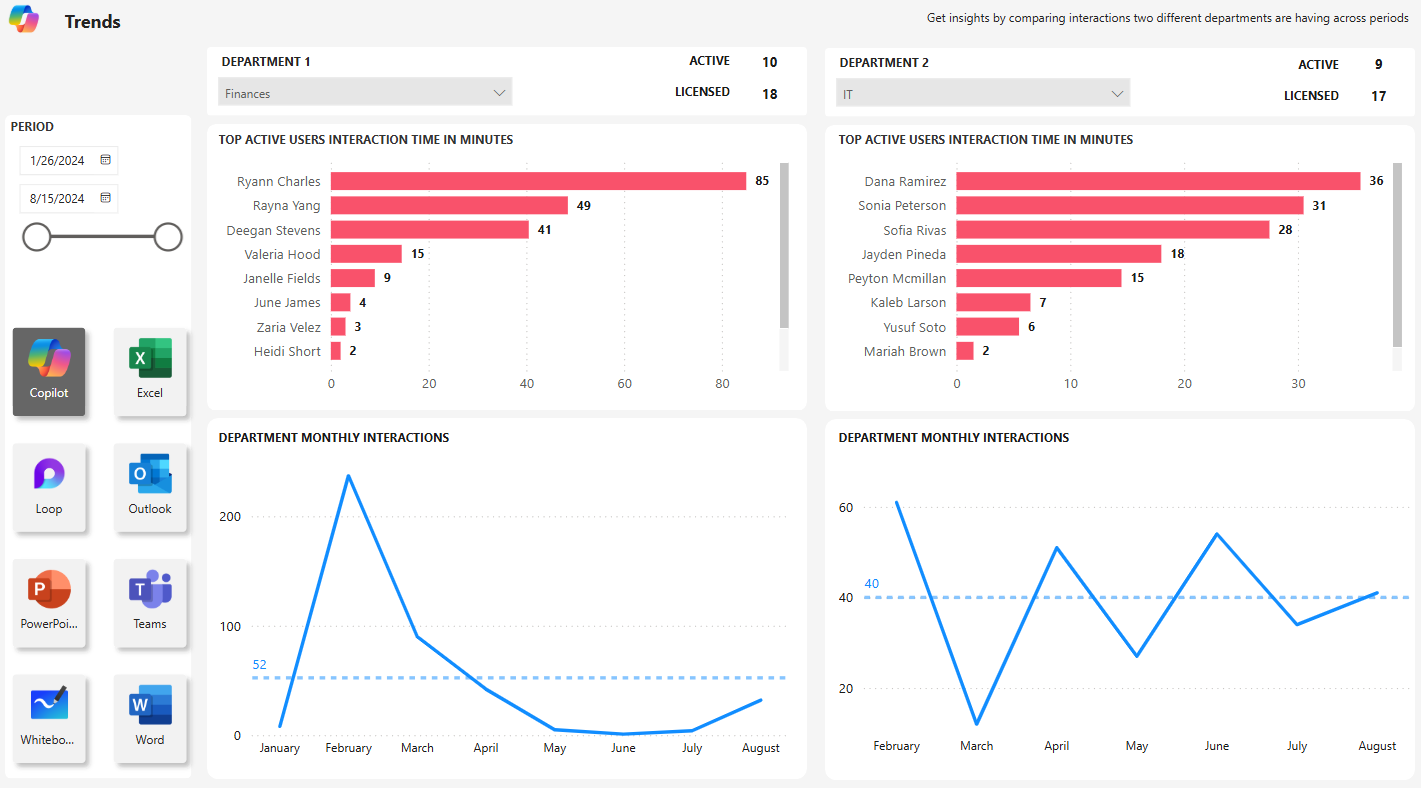

What the dashboard file says about the page in this screenshot:
{"tool":"powerbi","page":{"name":"Trends","canvas":[1280,720],"ordinal":7},"visuals":[{"type":"shape","box":[193.3,55,534.7,61.2],"z":0},{"type":"shape","box":[193.3,124.1,534.7,255.4],"z":1000},{"type":"textbox","box":[596.7,54.1,67.4,27],"z":2000},{"type":"textbox","box":[596.7,81.6,67.4,27],"z":3000},{"type":"card","fields":{"Values":["Count(Copilot.User)"]},"box":[665,57.6,60.3,26.6],"z":4000},{"type":"shape","box":[193.3,385.7,534.7,321.9],"z":5000},{"type":"card","fields":{"Values":["Count(Users.UserPrincipalName)"]},"box":[665,86,60.3,26.6],"z":6000},{"type":"slicer","fields":{"Values":["Users.DEPARTMENT"]},"box":[193.3,55,282,63],"z":7000},{"type":"shape","box":[13.8,115.5,166.4,591.3],"z":8000},{"type":"advancedSlicerVisual","fields":{"Values":["Copilot.APPLICATION"]},"box":[8.1,257.9,172.8,448.7],"z":9000},{"type":"shape","box":[743.9,125,525.8,255.4],"z":10000},{"type":"shape","box":[743.9,386.6,525.8,321.9],"z":11000},{"type":"lineChart","title":"DEPARTMENT MONTHLY INTERACTIONS","fields":{"Y":["Copilot.MONTHLY INTERACTIONS"],"Category":["Copilot.TimeStamp.Variation.Date Hierarchy.Year","Copilot.TimeStamp.Variation.Date Hierarchy.Month"]},"box":[751.2,395.4,518.5,300.1],"z":12000},{"type":"shape","box":[743.9,55.9,525.8,61.2],"z":13000},{"type":"slicer","fields":{"Values":["Users.DEPARTMENT"]},"box":[743.9,55.9,282,63],"z":14000},{"type":"textbox","box":[1139.7,57.9,67.4,27],"z":15000},{"type":"textbox","box":[1139.7,85.4,67.4,27],"z":16000},{"type":"card","fields":{"Values":["Count(Copilot.User)"]},"box":[1207.4,60,60.3,26.6],"z":17000},{"type":"card","fields":{"Values":["Count(Users.UserPrincipalName)"]},"box":[1207.4,88.4,60.3,26.6],"z":18000},{"type":"slicer","title":"PERIOD","fields":{"Values":["Copilot.TimeStamp"]},"box":[13.8,118.9,167.2,138.8],"z":19000},{"type":"lineChart","title":"DEPARTMENT MONTHLY INTERACTIONS","fields":{"Y":["Copilot.MONTHLY INTERACTIONS"],"Category":["Copilot.TimeStamp.Variation.Date Hierarchy.Year","Copilot.TimeStamp.Variation.Date Hierarchy.Month"]},"box":[199,395.4,517.7,301.8],"z":20000},{"type":"barChart","title":"TOP ACTIVE USERS INTERACTION TIME IN MINUTES","fields":{"Category":["Users.EMPLOYEE"],"Y":["Sum(Copilot.Approximate interaction time)"]},"box":[199,129.8,517.7,242.8],"z":21000},{"type":"barChart","title":"TOP ACTIVE USERS INTERACTION TIME IN MINUTES","fields":{"Category":["Users.EMPLOYEE"],"Y":["Sum(Copilot.Approximate interaction time)"]},"box":[751.4,129.9,511.6,242.8],"z":22000},{"type":"image","box":[10.8,10.8,39.5,39.5],"z":23000},{"type":"textbox","box":[61.8,21,97.7,22.3],"z":24000},{"type":"textbox","box":[760.5,14.3,509.2,32],"z":25000}]}

Visuals, with their boxes on the page's 1280x720 design canvas (x1, y1, x2, y2). These are canvas units, not pixel positions in the 1421x788 screenshot, which may show the page scaled, cropped or inside an application window:
shape: <bbox>193, 55, 728, 116</bbox>
shape: <bbox>193, 124, 728, 380</bbox>
textbox: <bbox>597, 54, 664, 81</bbox>
textbox: <bbox>597, 82, 664, 109</bbox>
card - Count(Copilot.User): <bbox>665, 58, 725, 84</bbox>
shape: <bbox>193, 386, 728, 708</bbox>
card - Count(Users.UserPrincipalName): <bbox>665, 86, 725, 113</bbox>
slicer - Users.DEPARTMENT: <bbox>193, 55, 475, 118</bbox>
shape: <bbox>14, 116, 180, 707</bbox>
advancedSlicerVisual - Copilot.APPLICATION: <bbox>8, 258, 181, 707</bbox>
shape: <bbox>744, 125, 1270, 380</bbox>
shape: <bbox>744, 387, 1270, 708</bbox>
"DEPARTMENT MONTHLY INTERACTIONS" lineChart: <bbox>751, 395, 1270, 696</bbox>
shape: <bbox>744, 56, 1270, 117</bbox>
slicer - Users.DEPARTMENT: <bbox>744, 56, 1026, 119</bbox>
textbox: <bbox>1140, 58, 1207, 85</bbox>
textbox: <bbox>1140, 85, 1207, 112</bbox>
card - Count(Copilot.User): <bbox>1207, 60, 1268, 87</bbox>
card - Count(Users.UserPrincipalName): <bbox>1207, 88, 1268, 115</bbox>
"PERIOD" slicer: <bbox>14, 119, 181, 258</bbox>
"DEPARTMENT MONTHLY INTERACTIONS" lineChart: <bbox>199, 395, 717, 697</bbox>
"TOP ACTIVE USERS INTERACTION TIME IN MINUTES" barChart: <bbox>199, 130, 717, 373</bbox>
"TOP ACTIVE USERS INTERACTION TIME IN MINUTES" barChart: <bbox>751, 130, 1263, 373</bbox>
image: <bbox>11, 11, 50, 50</bbox>
textbox: <bbox>62, 21, 160, 43</bbox>
textbox: <bbox>760, 14, 1270, 46</bbox>
